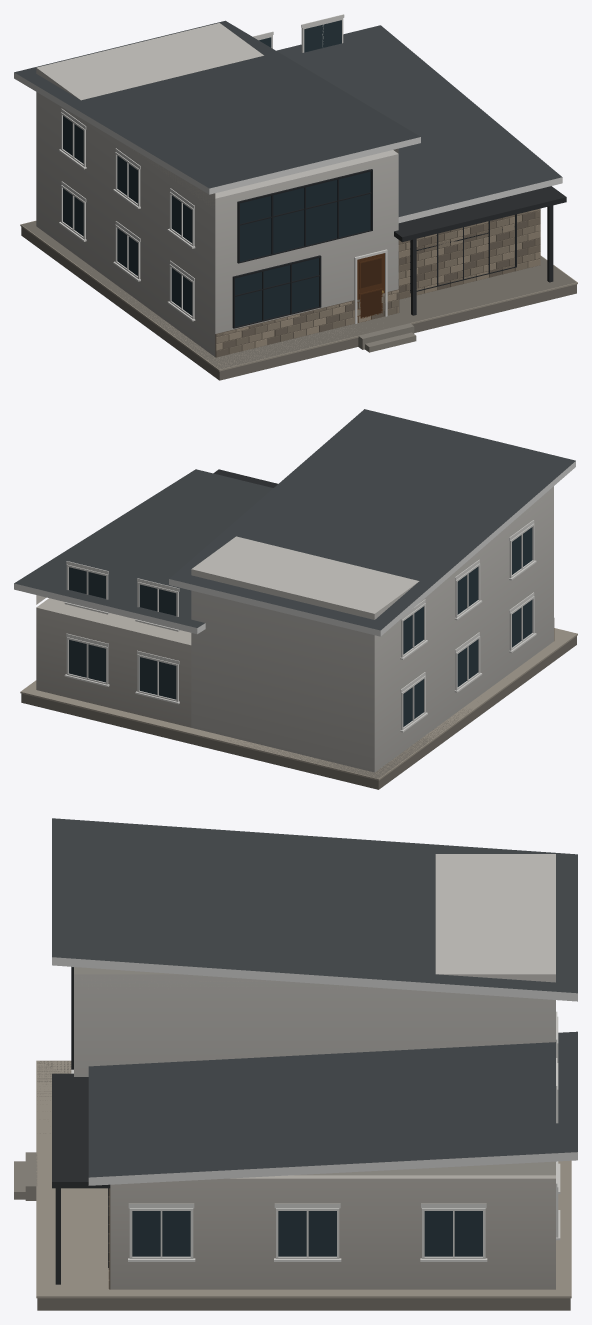
File: ns_dup3.glb
3 renders of one model, top to bottom at view 1: azimuth 30°, elevation 25°; view 2: azimuth 150°, elevation 25°; view 3: azimuth 270°, elevation 25°, orthographic. The views are drawn at different scales.
Visible parts, largest first — view 1: ns_dup3; view 2: ns_dup3; view 3: ns_dup3.
Part boxes in pixels (bbox=[...]): ns_dup3: bbox=[14, 14, 577, 380]; ns_dup3: bbox=[14, 409, 577, 789]; ns_dup3: bbox=[14, 818, 577, 1310].
Bounding box in the file's own units: 15.6 × 7.7 × 15.44.
